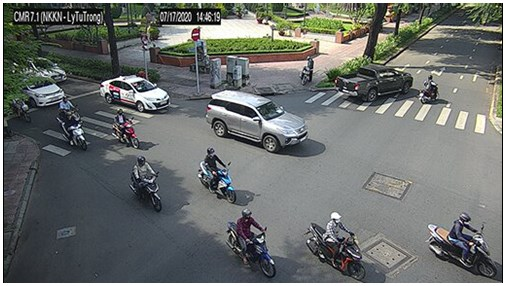xe_ban_tai: (334, 63, 413, 101)
xe_hoi: (205, 89, 308, 155), (19, 57, 67, 82), (20, 79, 64, 105)
xe_may: (425, 210, 498, 279), (305, 211, 367, 280), (225, 209, 277, 279), (198, 148, 237, 203), (130, 156, 163, 213), (112, 109, 140, 150), (61, 112, 88, 152), (56, 95, 83, 131), (420, 75, 440, 103), (13, 95, 33, 123), (300, 56, 314, 86)
xe_taxi: (100, 75, 169, 111)
